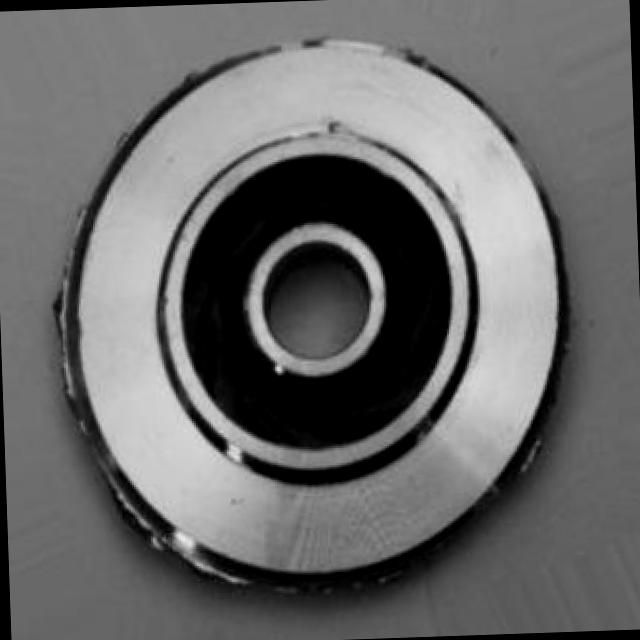Defect: (120, 500, 182, 564)
